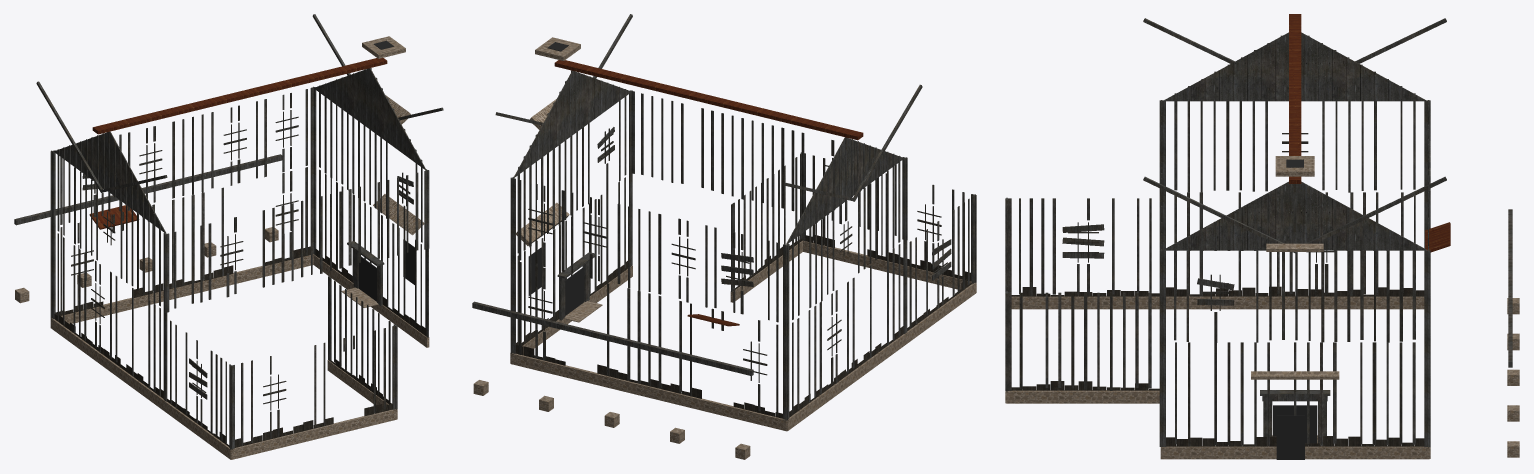
File: hollow_house_trim.glb
The picture shows the model from 3 angles, left to right: view 1: azimuth 30°, elevation 25°; view 2: azimuth 150°, elevation 25°; view 3: azimuth 270°, elevation 25°; orthographic projection. The views are drawn at different scales.
Parts seen in each view (by area): view 1: hollow_house_trim; view 2: hollow_house_trim; view 3: hollow_house_trim.
Part boxes in pixels (bbox=[...]): hollow_house_trim: bbox=[14, 14, 443, 459]; hollow_house_trim: bbox=[472, 14, 976, 459]; hollow_house_trim: bbox=[1005, 14, 1519, 459].
Size of the model in its own units: 9.62 by 7.58 by 11.66.
7 materials, 6 textured.
